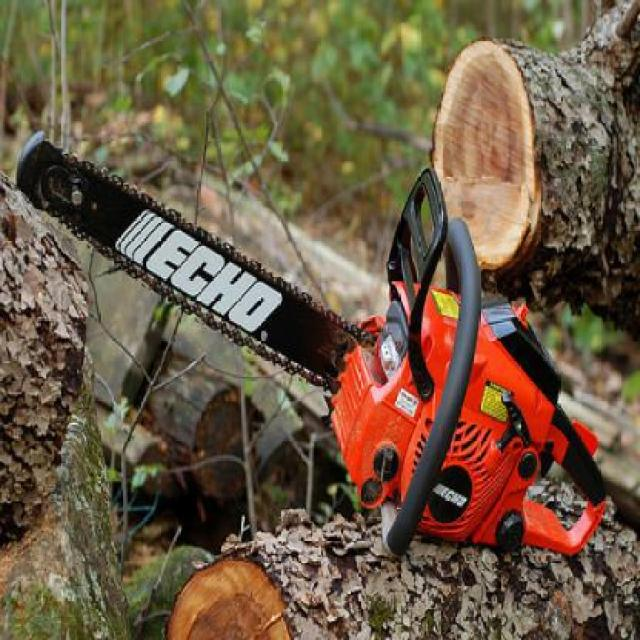Chainsaw: (11, 126, 608, 563)
